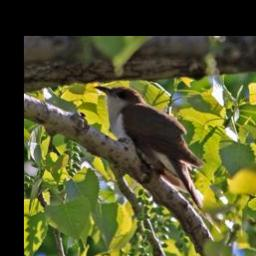Cuckoo: (94, 83, 208, 225)
